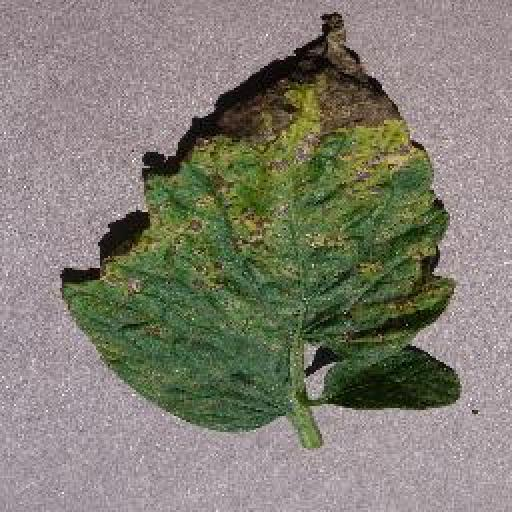disease_tomato: (61, 14, 464, 430)
